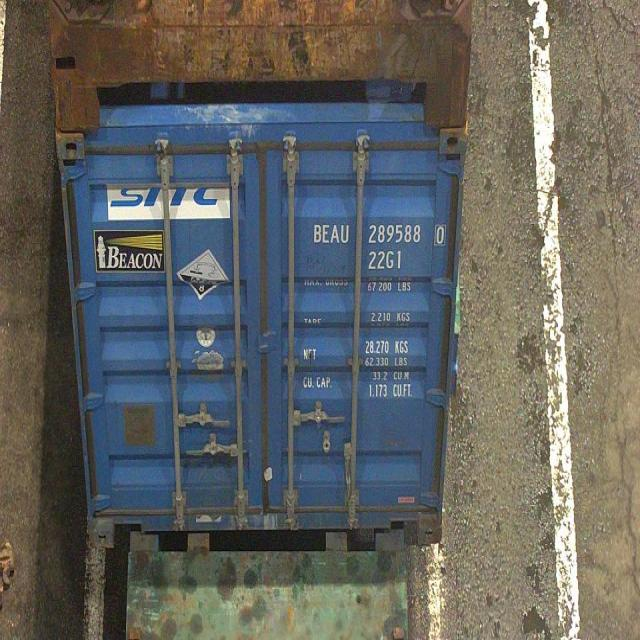ISO: (369, 249, 404, 271)
container_number: (313, 222, 443, 246)
